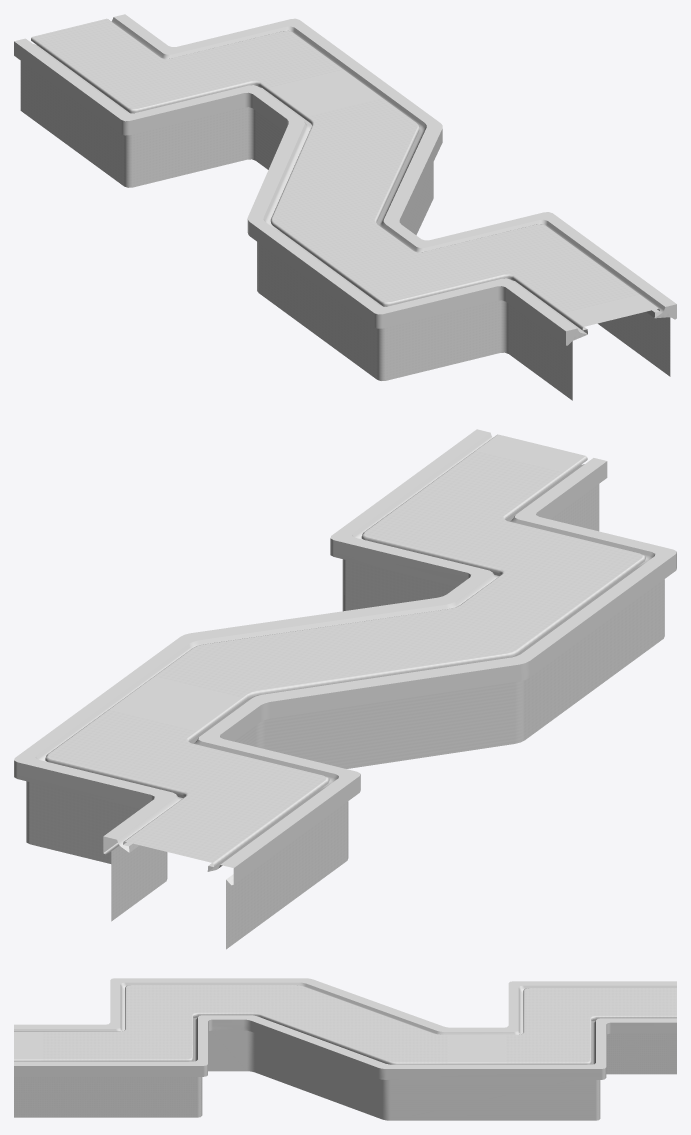
Rendered from SM_Grond_07.fbx.
3 renders of one model, top to bottom at view 1: azimuth 30°, elevation 25°; view 2: azimuth 150°, elevation 25°; view 3: azimuth 270°, elevation 25°, orthographic. The views are drawn at different scales.
Parts seen in each view (by area): view 1: SM_Grond_07; view 2: SM_Grond_07; view 3: SM_Grond_07.
Boxes of the visible parts, x1,y1,x2,y2 form: SM_Grond_07: (14,14,676,400); SM_Grond_07: (14,429,676,949); SM_Grond_07: (14,978,676,1120).
Bounding box in the file's own units: 303 × 84.32 × 935.
